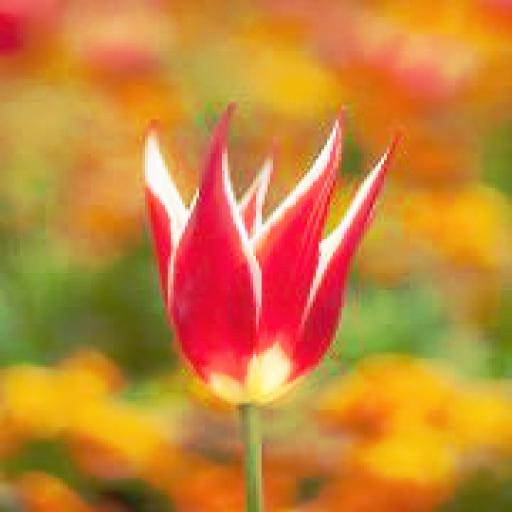tulip: (142, 106, 401, 408)
